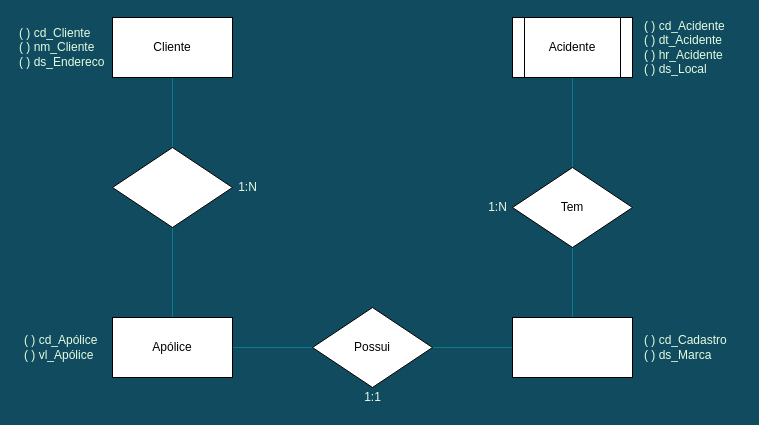
Some shapes in this 759 by 425 pixel diagram are drawn without their labels. Each missing label, with the centre of its shape:
Carro: (x=572, y=347)
Faz: (x=172, y=187)
